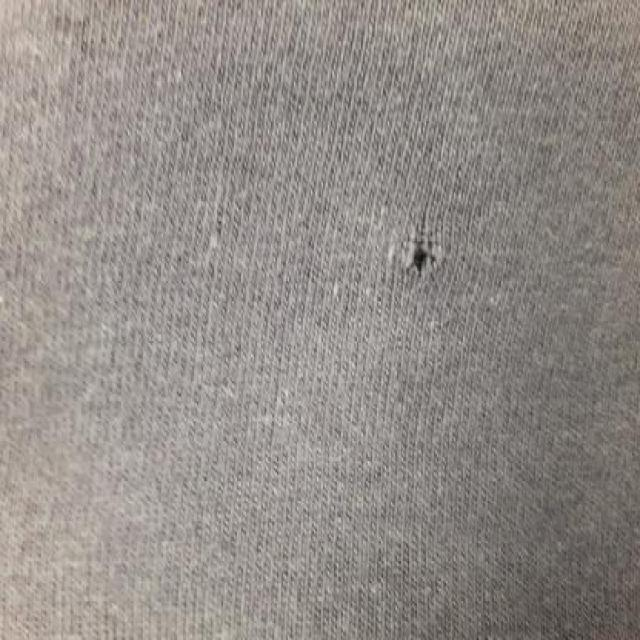seam: (352, 178, 480, 326)
